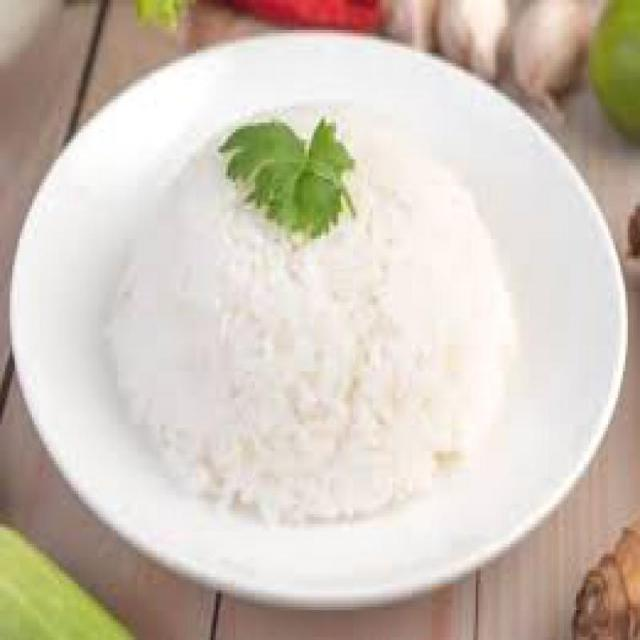Rice: (117, 102, 513, 529)
